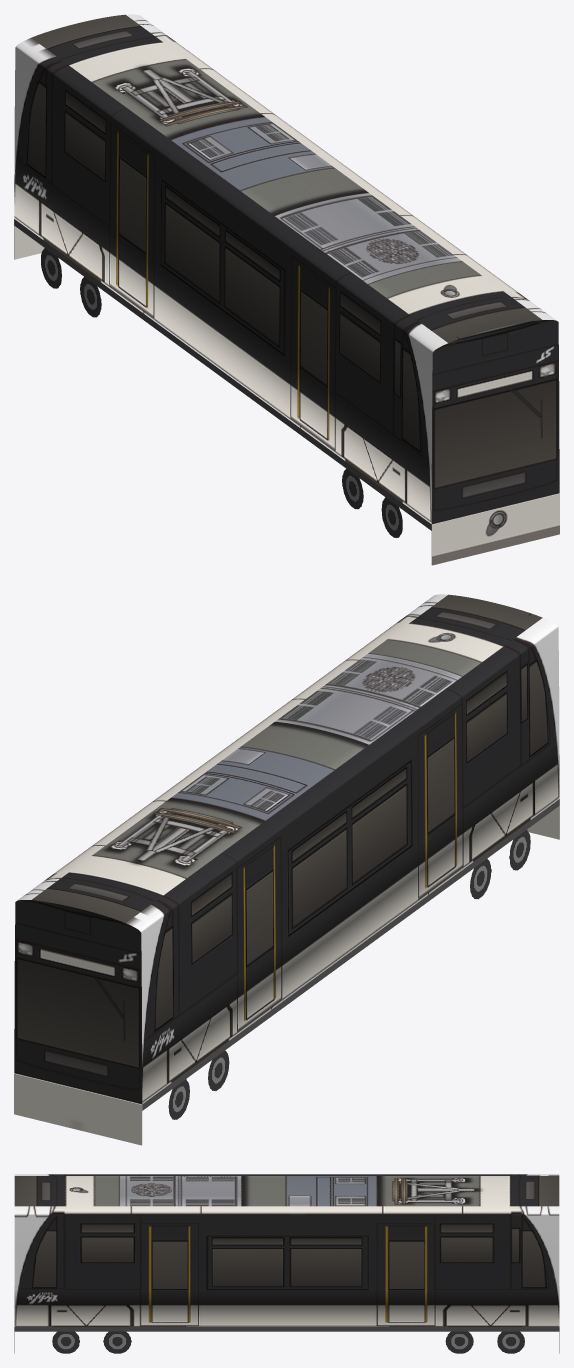
The model's file is car1.glb.
3 renders of one model, top to bottom at view 1: azimuth 30°, elevation 25°; view 2: azimuth 150°, elevation 25°; view 3: azimuth 270°, elevation 25°, orthographic. The views are drawn at different scales.
Visible parts, largest first — view 1: sapporosiden-1100-car1; view 2: sapporosiden-1100-car1; view 3: sapporosiden-1100-car1.
Boxes of the visible parts, x1,y1,x2,y2 form: sapporosiden-1100-car1: [14, 14, 559, 565]; sapporosiden-1100-car1: [14, 594, 559, 1145]; sapporosiden-1100-car1: [14, 1174, 559, 1353].
Bounding box in the file's own units: 2.3 × 3.8 × 13.03.
9 materials, 8 textured.
